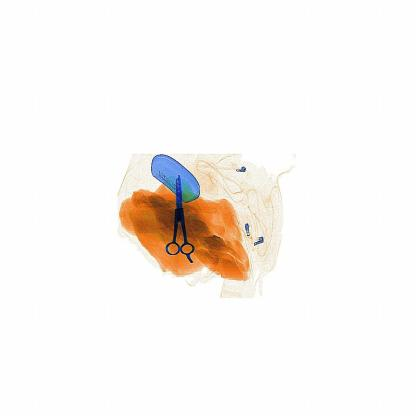gun: (159, 168, 200, 268)
